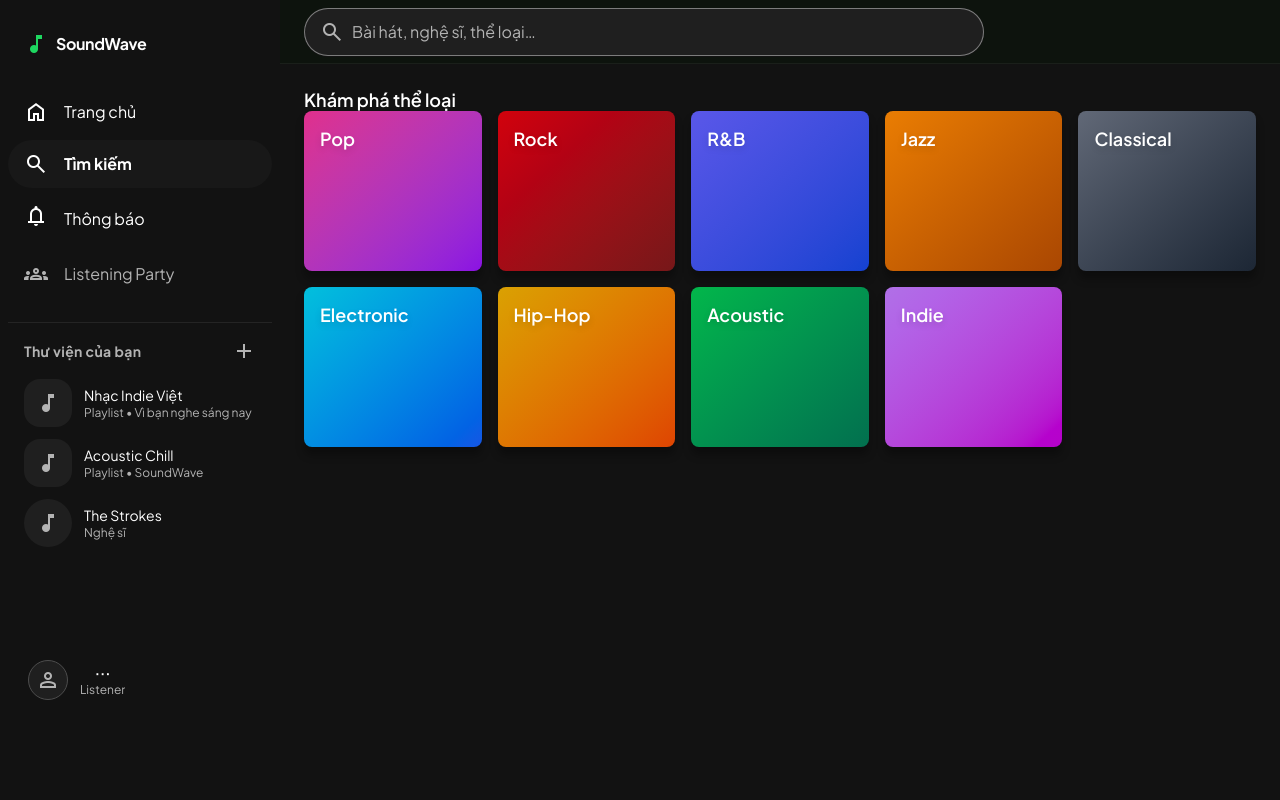
Test: SearchPage — clear query › restores genre grid after clear button click
This screenshot has width=1280, height=800.
Type "test" into the field named "tìm kiếm".
click(644, 32); type("test")  # box [304,8,984,56]
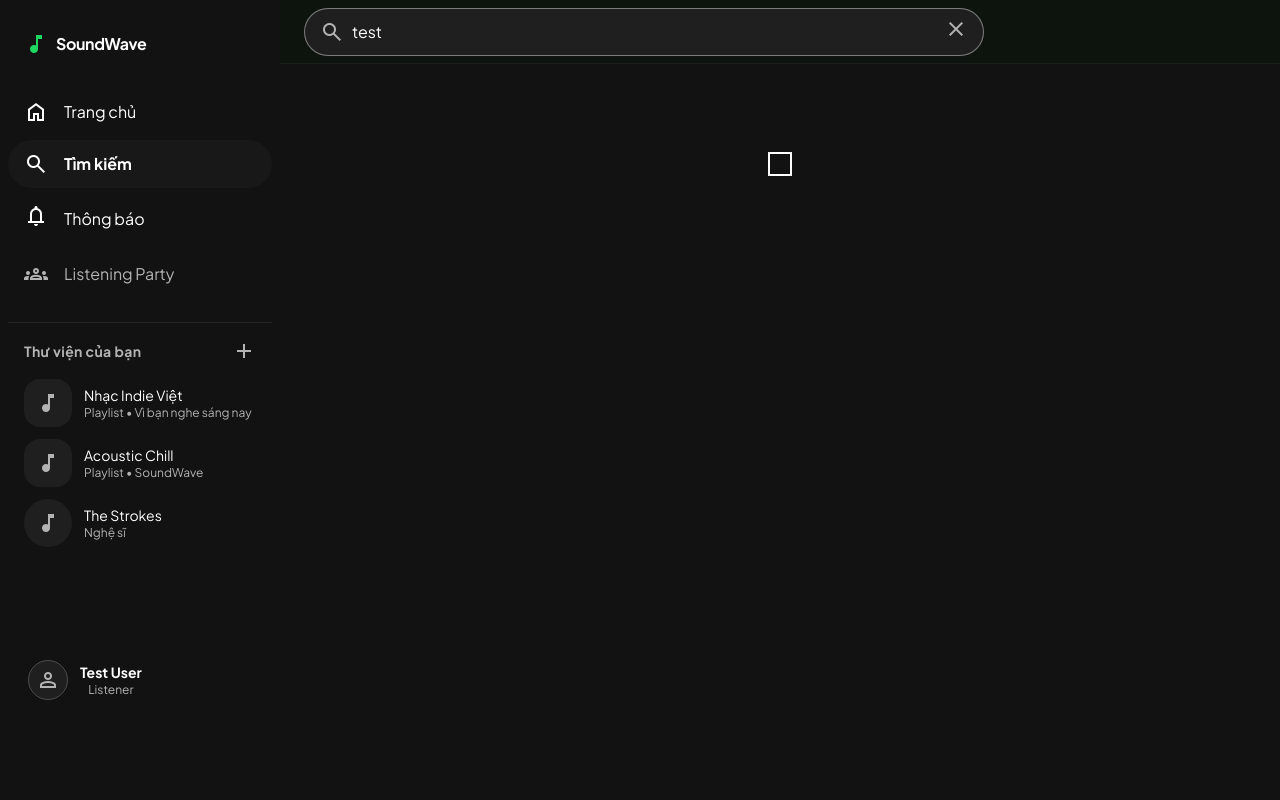
Click the button named "xóa tìm kiếm".
click(956, 32)  # box [944,16,968,46]
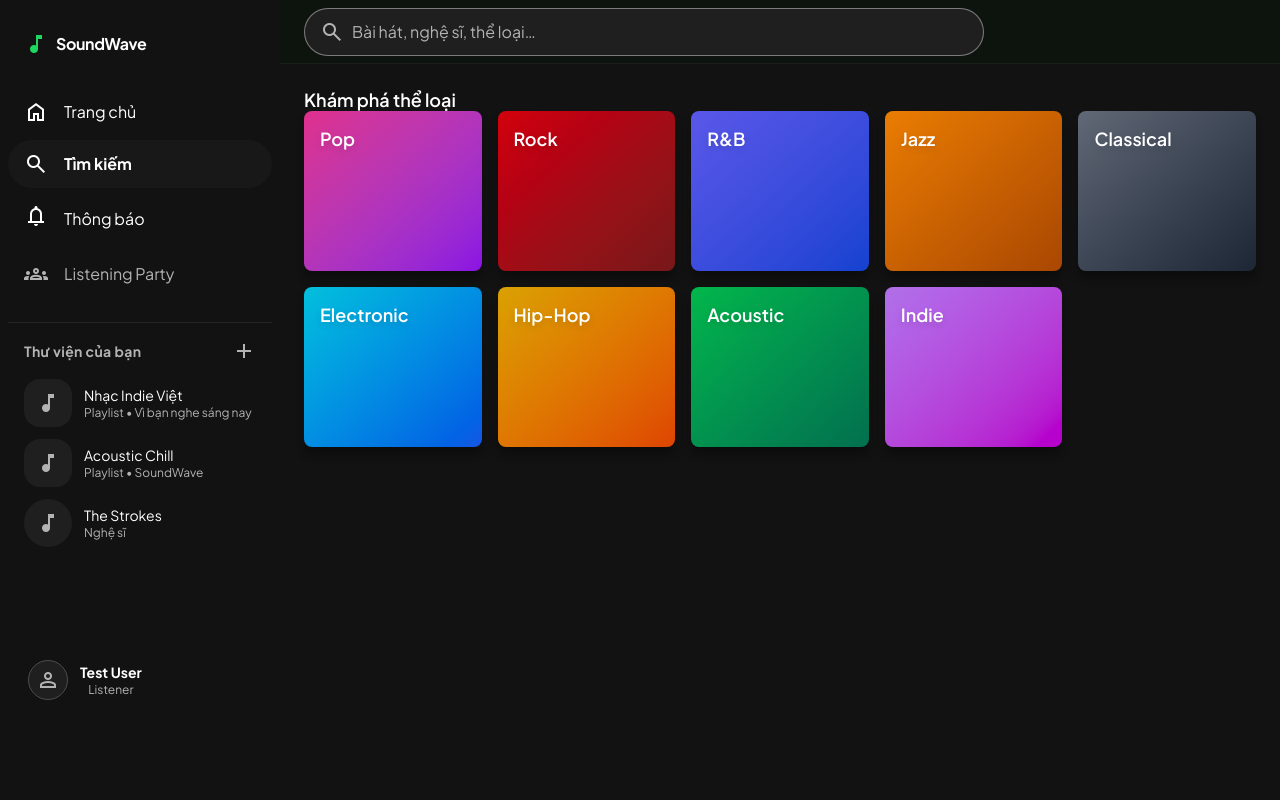
Check: the element with test id "genre-browse" is shown, box [304,88,1256,447]
